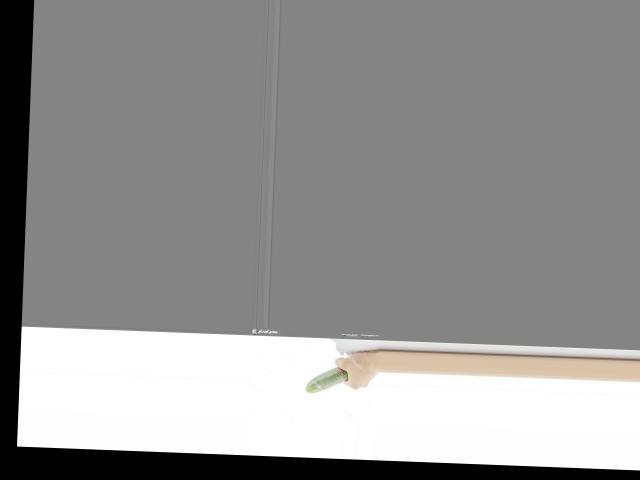cucumber: (306, 365, 348, 394)
